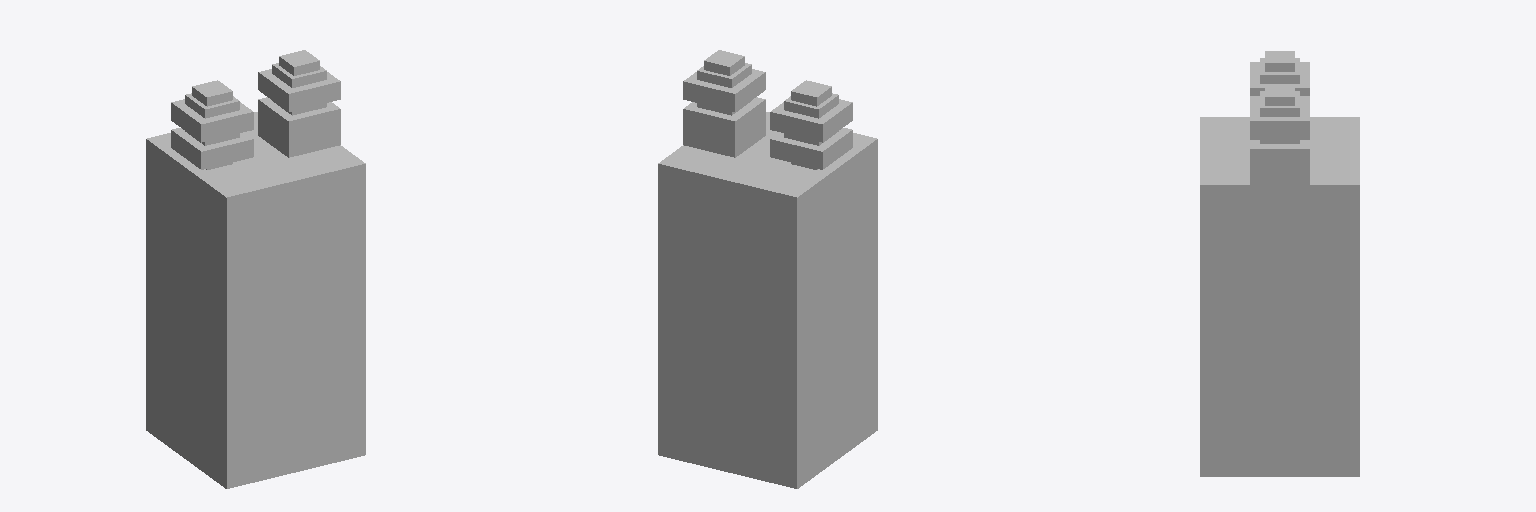
Rendered from transformer_mv_left.obj.
The picture shows the model from 3 angles: view 1: azimuth 30°, elevation 25°; view 2: azimuth 150°, elevation 25°; view 3: azimuth 270°, elevation 25°; orthographic projection.
Visible parts, largest first — view 1: right; view 2: right; view 3: right.
Part boxes in pixels (x1,y1,x2,y2): right: (146, 50, 365, 488); right: (658, 50, 877, 488); right: (1200, 51, 1359, 476).
Size of the model in its own units: 1 by 2.56 by 1.